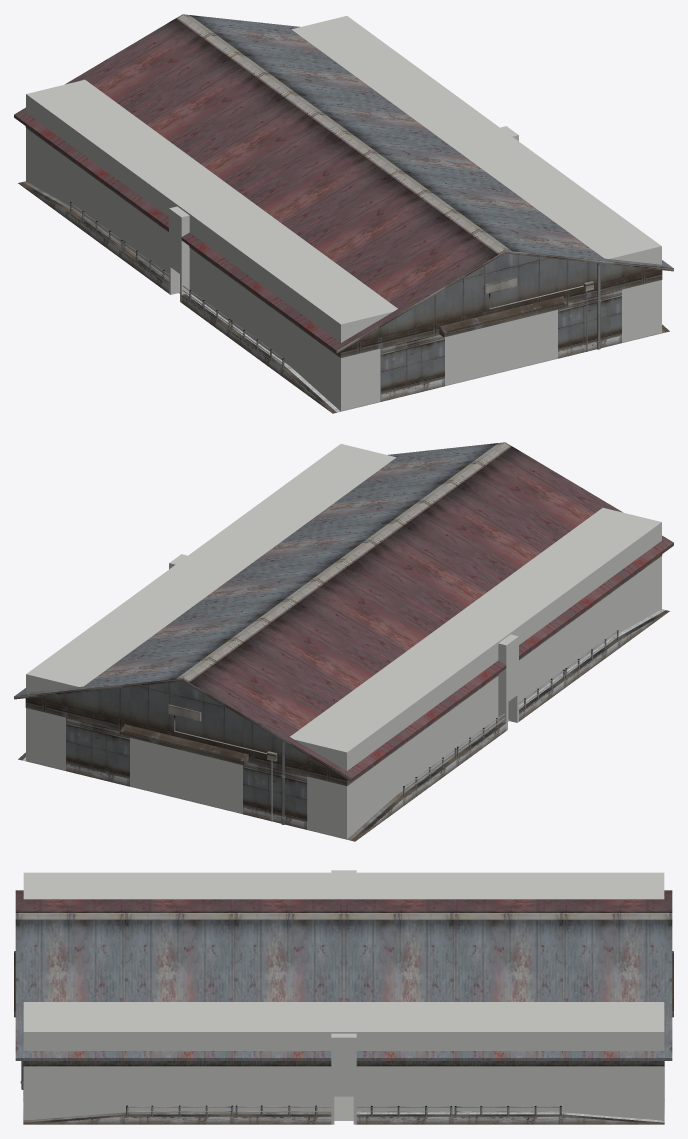
File: ind-warehouse-5.access-v9.lod0.glb
3 renders of one model, top to bottom at view 1: azimuth 30°, elevation 25°; view 2: azimuth 150°, elevation 25°; view 3: azimuth 270°, elevation 25°, orthographic.
Parts seen in each view (by area): view 1: Industrial_Warehouse_5_Industrial_Walls_FLR_1_0, Walkable floors and stairs, Industrial_Warehouse_5_Material #140_0; view 2: Industrial_Warehouse_5_Industrial_Walls_FLR_1_0, Walkable floors and stairs, Industrial_Warehouse_5_Material #140_0; view 3: Industrial_Warehouse_5_Industrial_Walls_FLR_1_0, Walkable floors and stairs (×2), Industrial_Warehouse_5_Material #140_0.
Boxes of the visible parts, x1,y1,x2,y2 form: Industrial_Warehouse_5_Industrial_Walls_FLR_1_0: [14, 14, 673, 393]; Walkable floors and stairs: [26, 16, 661, 410]; Industrial_Warehouse_5_Material #140_0: [18, 181, 669, 413]; Industrial_Warehouse_5_Industrial_Walls_FLR_1_0: [14, 442, 673, 824]; Walkable floors and stairs: [26, 444, 661, 838]; Industrial_Warehouse_5_Material #140_0: [18, 609, 669, 841]; Industrial_Warehouse_5_Industrial_Walls_FLR_1_0: [14, 890, 673, 1116]; Walkable floors and stairs (×2): [23, 870, 664, 1124]; Industrial_Warehouse_5_Material #140_0: [23, 1093, 664, 1124].
Bounding box in the file's own units: 33 × 11.68 × 54.94.
Materials: 4 (2 with a texture image).
